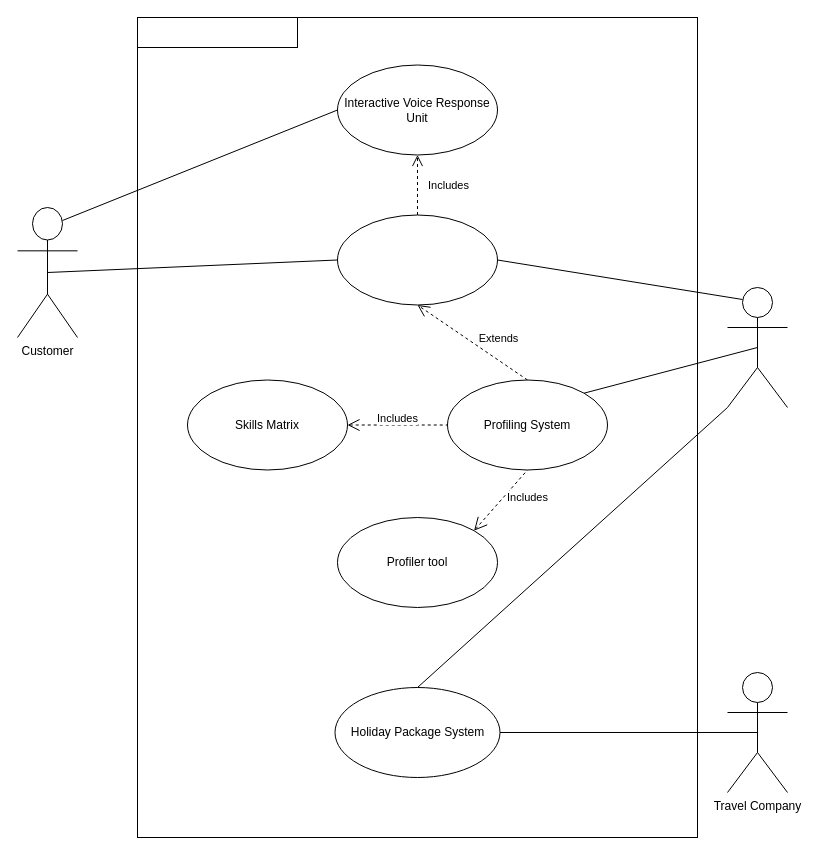
This 819x855 diagram has some shape labels left out. The centre of each missing label's shape, as x and y in pixels:
"Automatic Call Distributor" goes at (x=417, y=259).
"Call Management Center" goes at (x=217, y=32).
"Relationship Manager" goes at (x=757, y=347).
